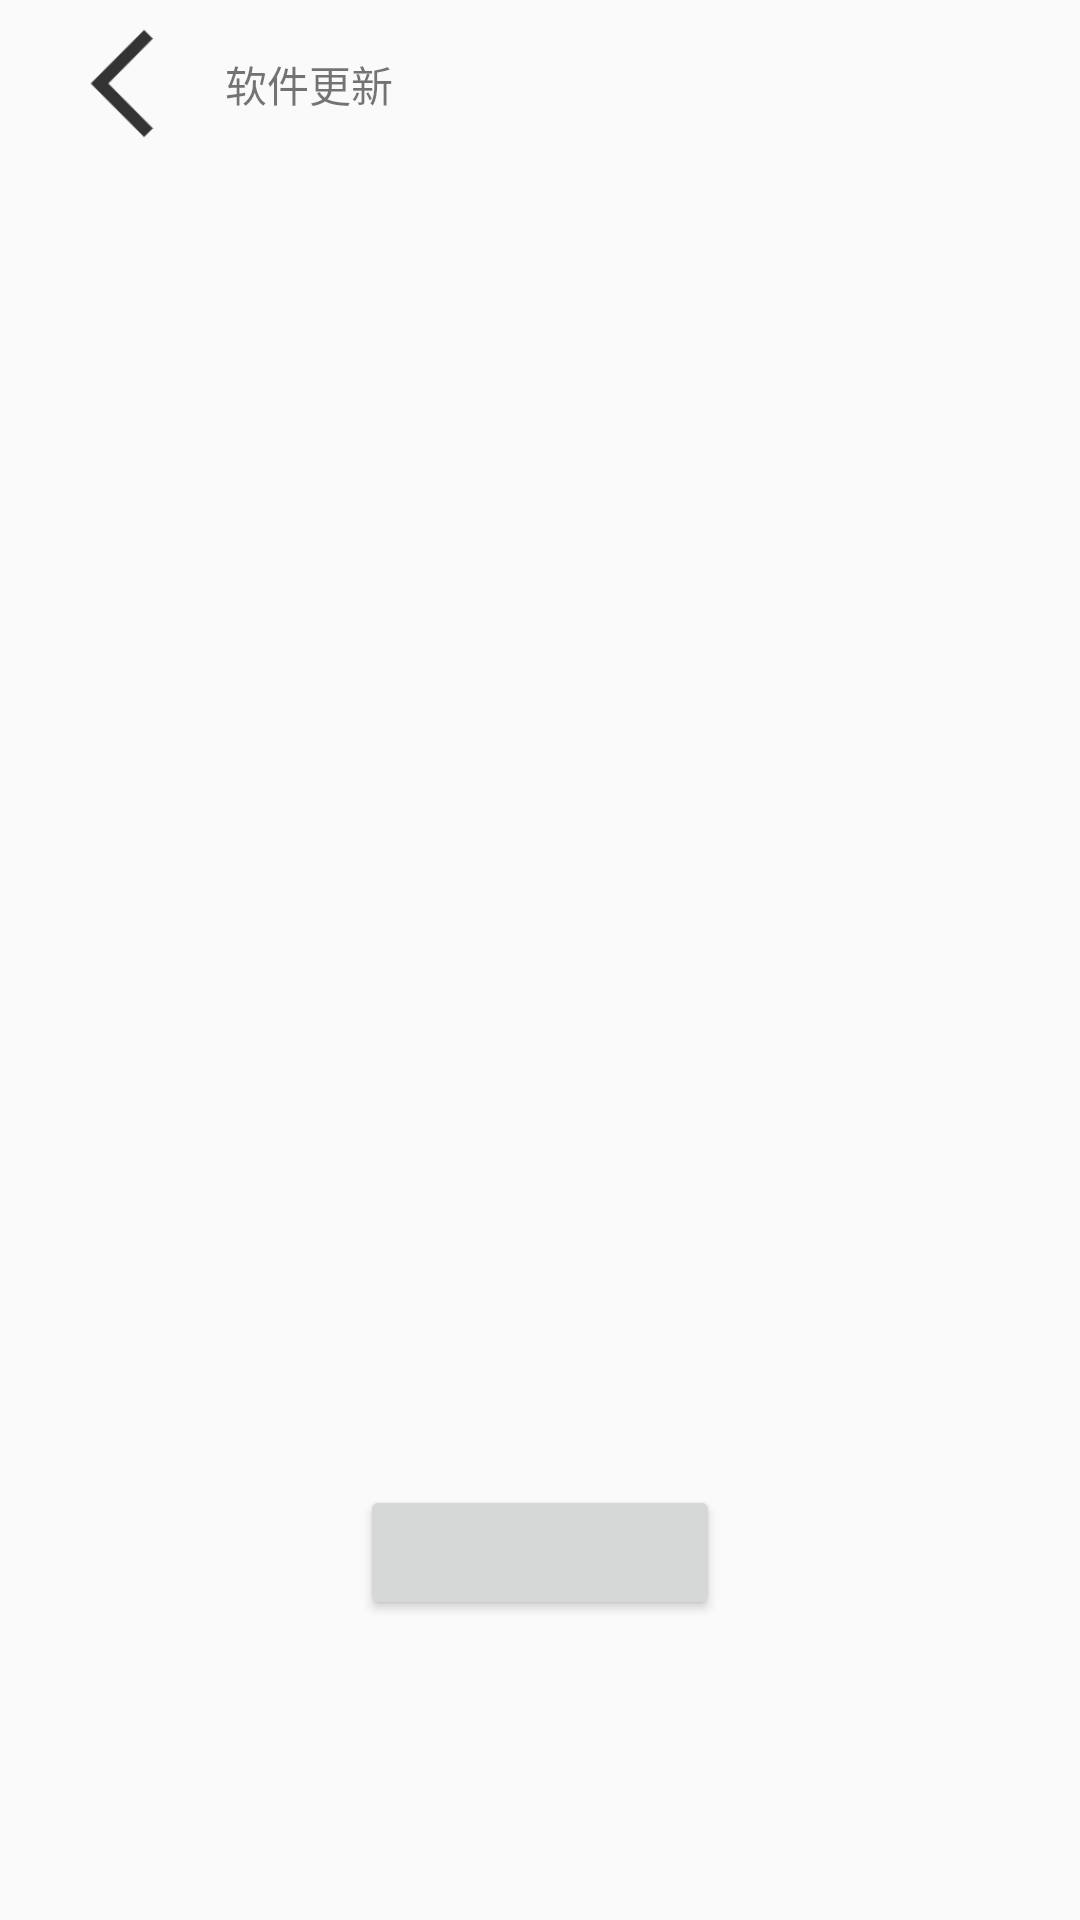

Icon click points for this 1080 × 1920 phone screenshot, format [x,y]:
back: [121,83]
